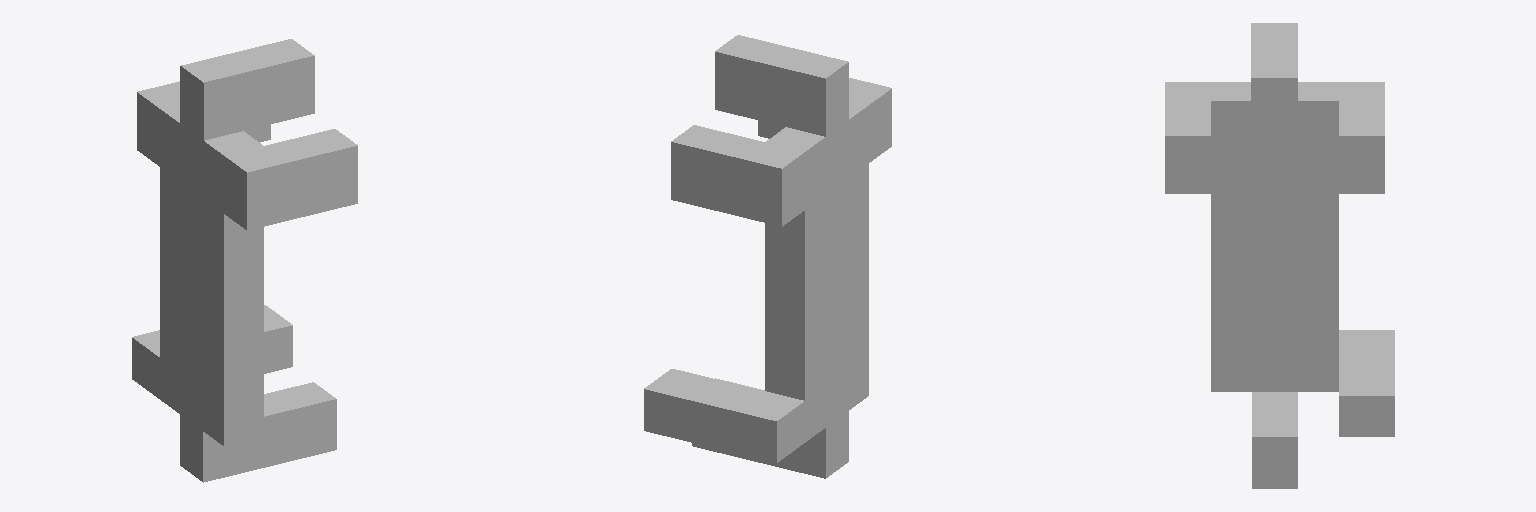
3 views of the same model, side by side, from view 1: azimuth 30°, elevation 25°; view 2: azimuth 150°, elevation 25°; view 3: azimuth 270°, elevation 25° (orthographic).
Visible parts, largest first — view 1: mesh_1_Thick-2.002; view 2: mesh_1_Thick-2.002; view 3: mesh_1_Thick-2.002.
Boxes of the visible parts, <box> form: mesh_1_Thick-2.002: <box>132,39,357,482</box>; mesh_1_Thick-2.002: <box>644,35,891,478</box>; mesh_1_Thick-2.002: <box>1165,23,1394,488</box>.
Bounding box in the file's own units: 0.06 × 0.172 × 0.09.